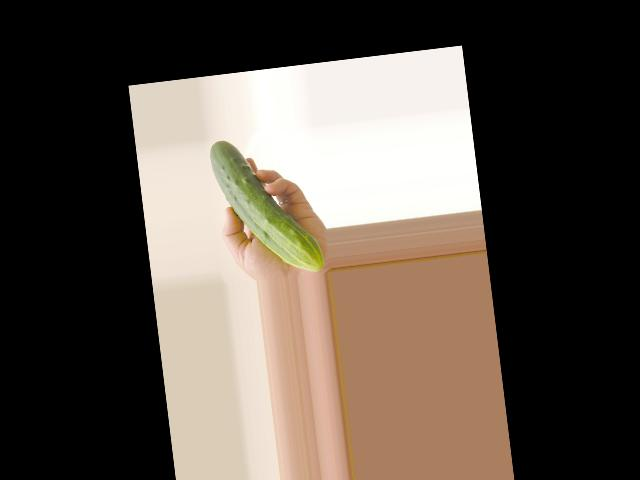cucumber: (209, 130, 325, 281)
